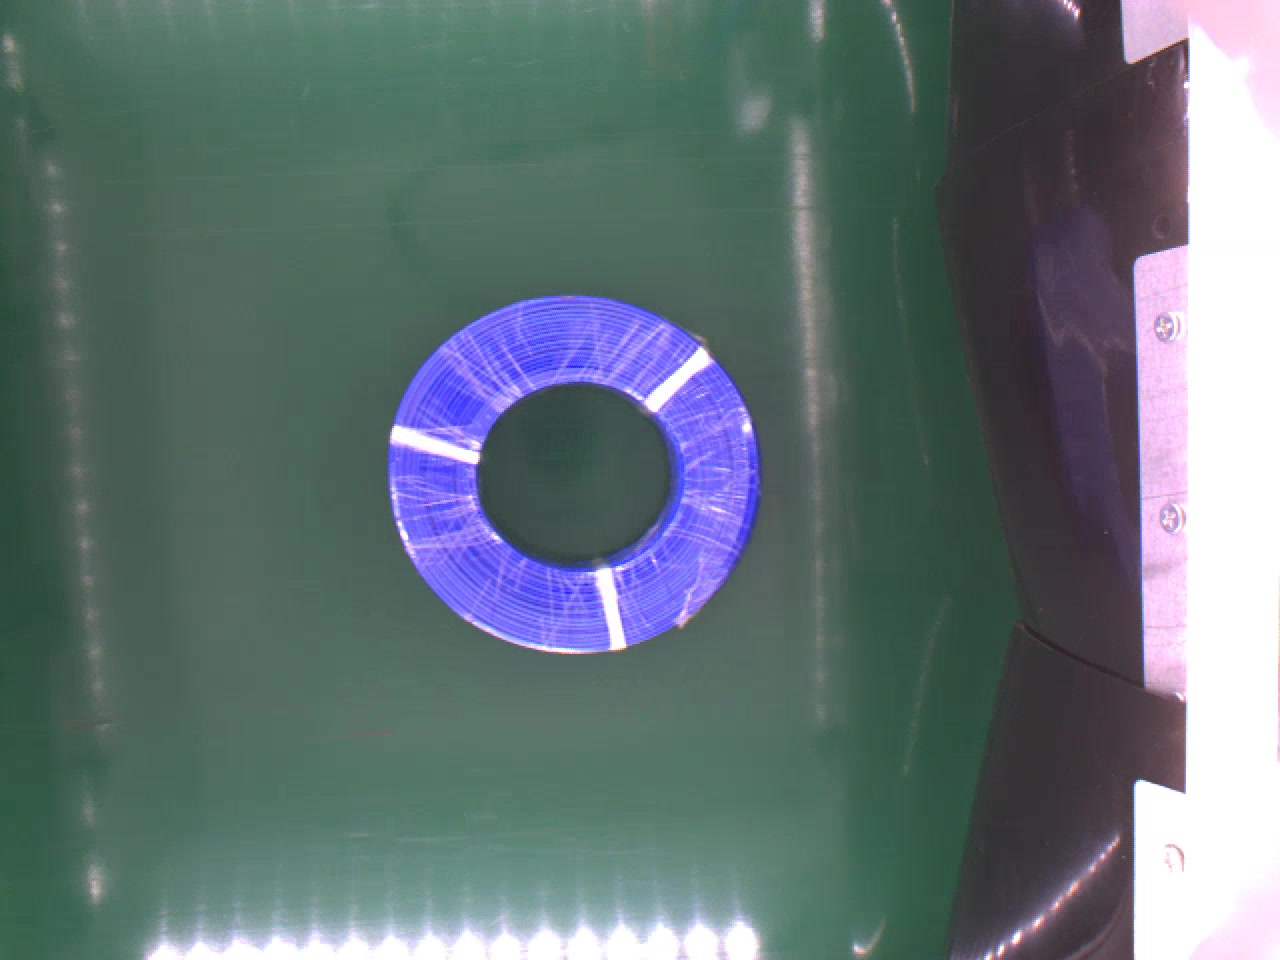blue: (384, 296, 763, 659)
